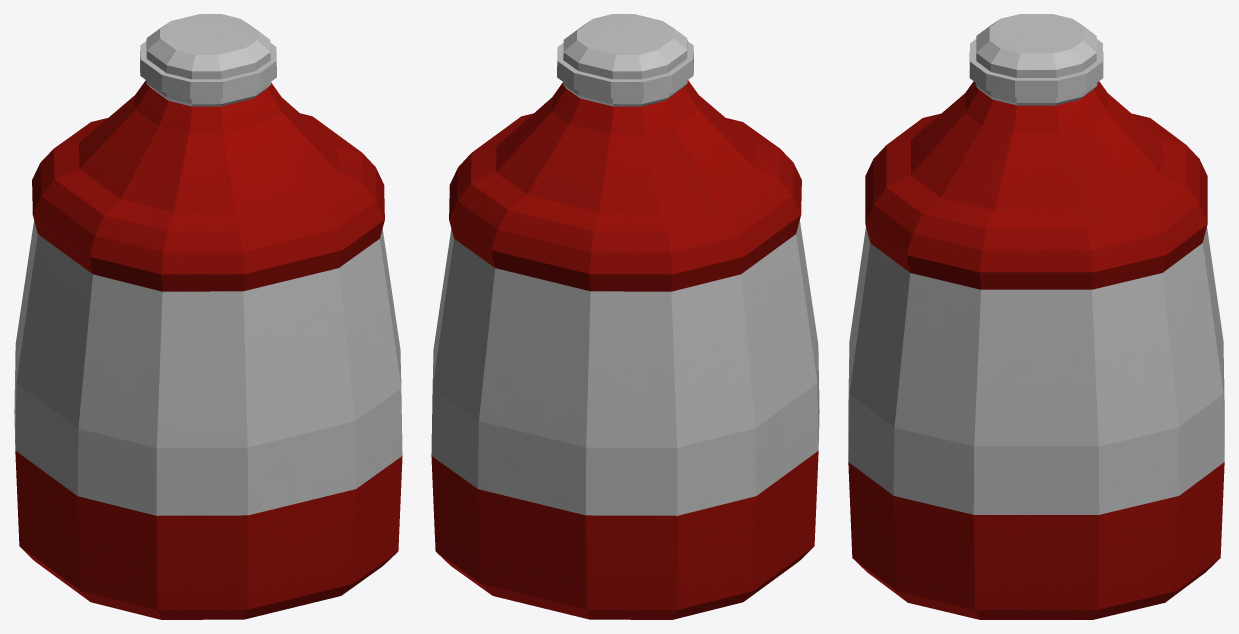
The model's file is small_bottle_1.fbx.
3 views of the same model, side by side, from view 1: azimuth 30°, elevation 25°; view 2: azimuth 150°, elevation 25°; view 3: azimuth 270°, elevation 25° (orthographic).
Parts seen in each view (by area): view 1: small_bottle_1; view 2: small_bottle_1; view 3: small_bottle_1.
Part boxes in pixels (bbox=[...]): small_bottle_1: bbox=[14, 14, 402, 619]; small_bottle_1: bbox=[431, 14, 819, 619]; small_bottle_1: bbox=[848, 14, 1224, 619].
Bounding box in the file's own units: 0.1057 × 0.1595 × 0.1057.
